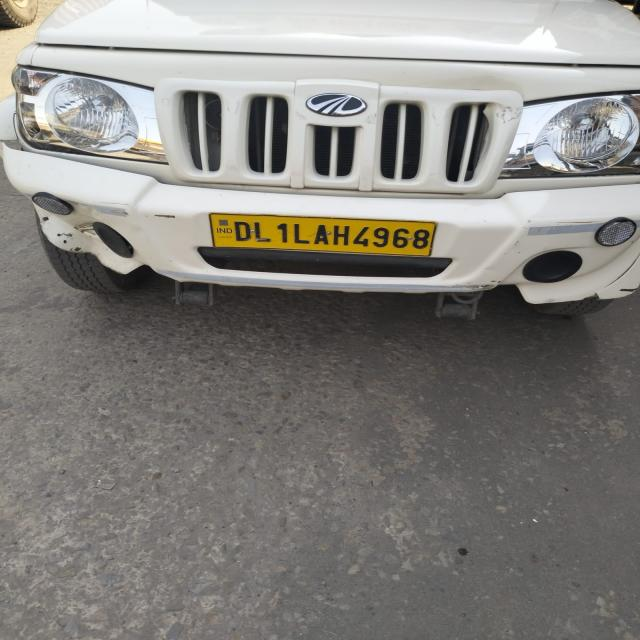License-plate: (229, 209, 435, 255)
